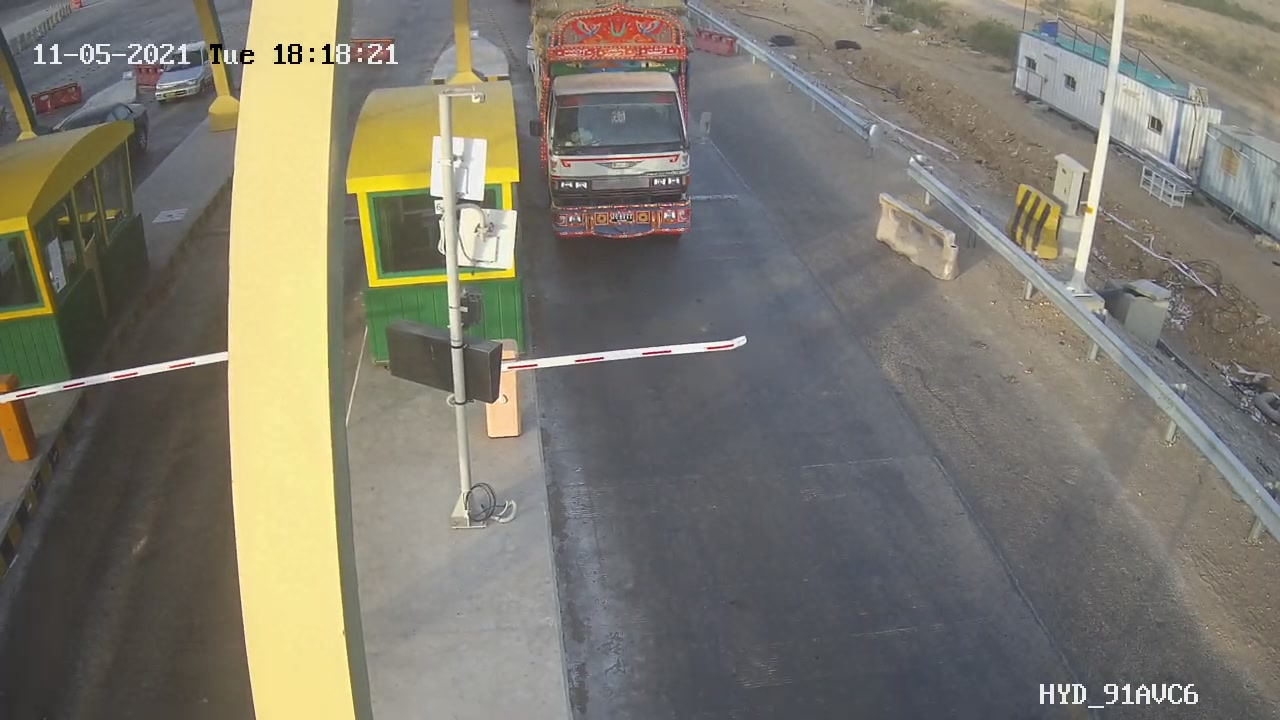F5: (514, 18, 747, 256)
